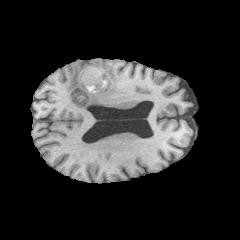glioma: (67, 61, 120, 110)
